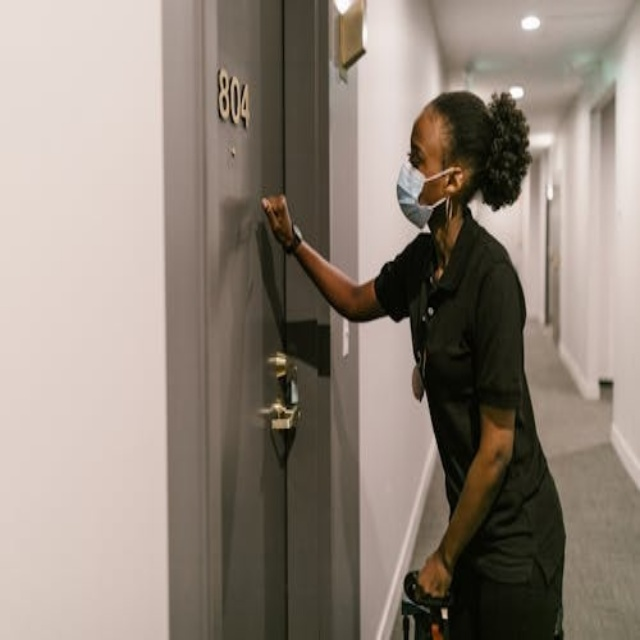Mascara: (396, 159, 458, 229)
Sin_gafas: (403, 129, 445, 173)
Sin_guantes: (259, 183, 298, 244), (416, 540, 454, 600)
